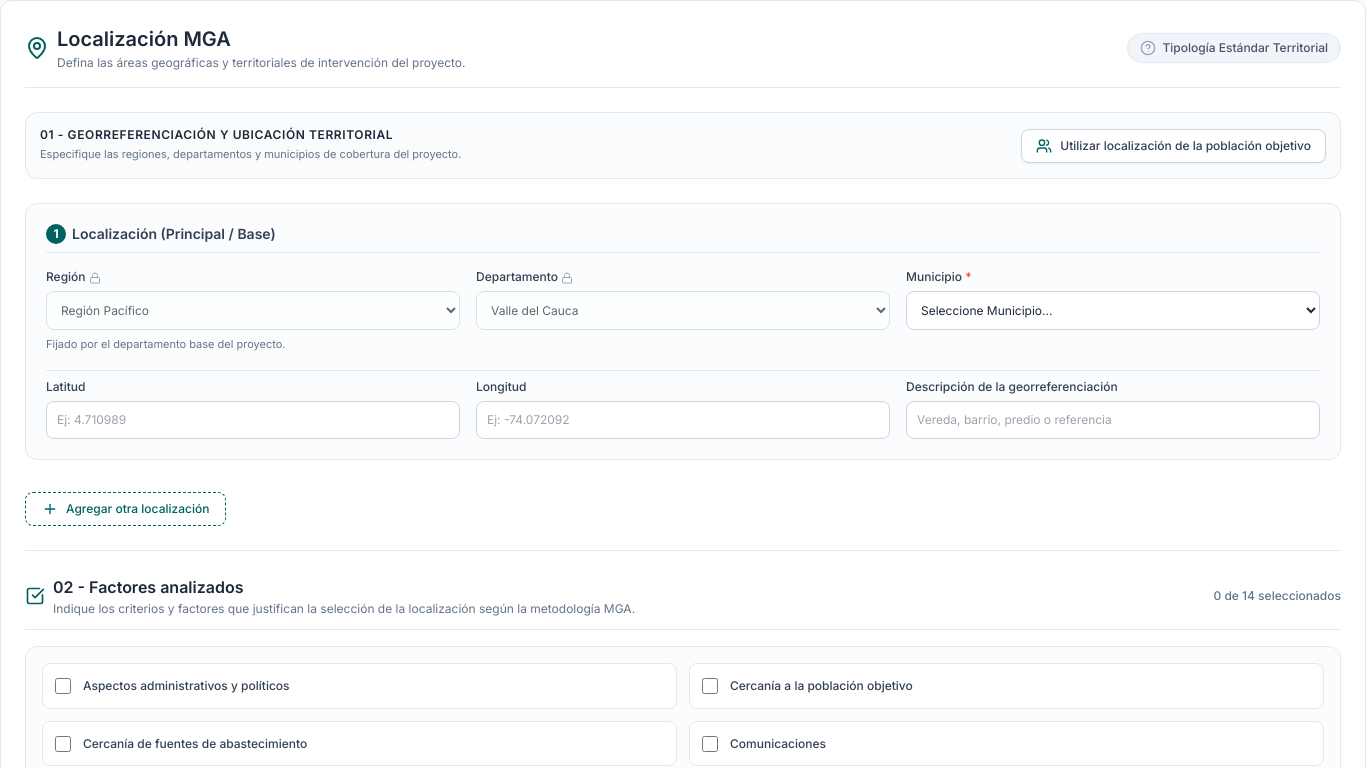
Test: LocalizacionTab - departamento base bloqueado › una nueva localización nace con Región y Departamento base bloqueados
Click the button "Agregar otra localización": coordinates (126, 509) [25,492,226,526]
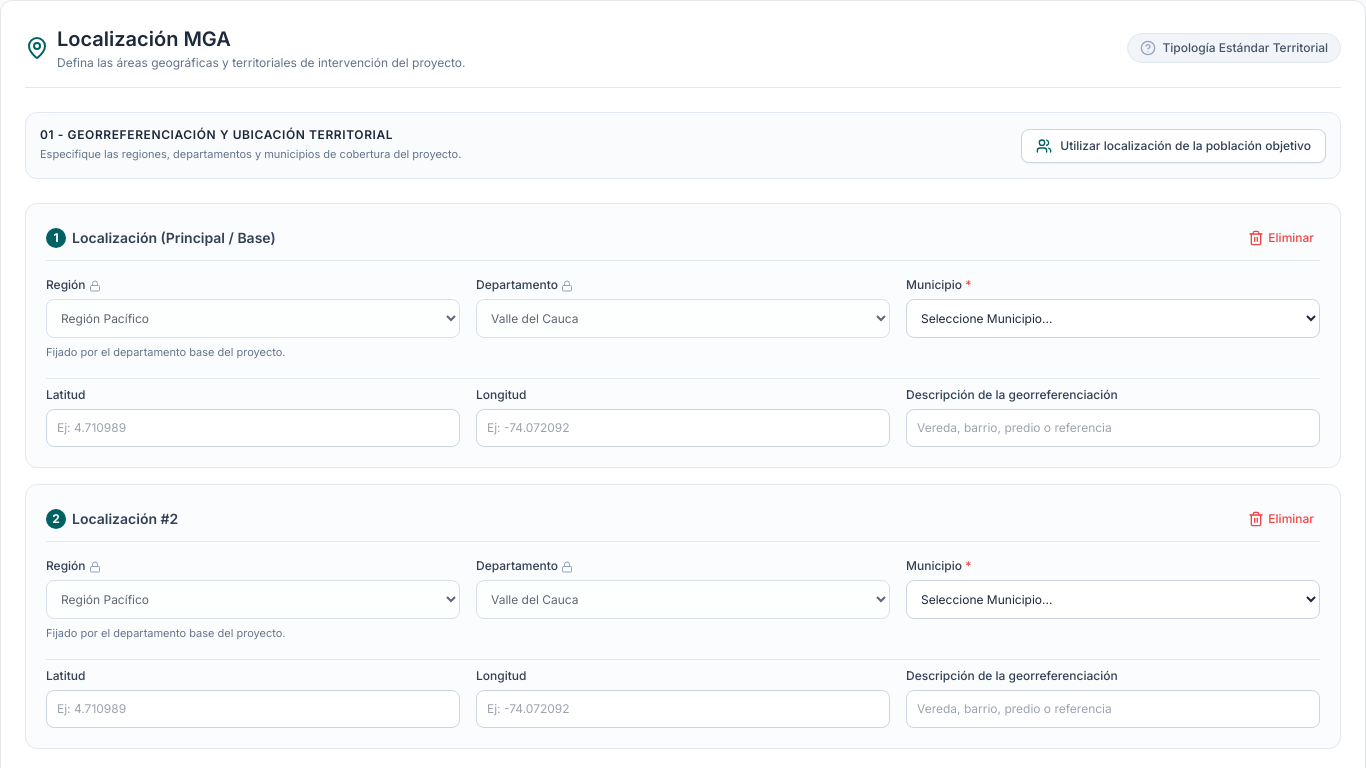
Expected: the text "Localización #2" is shown, [46,509,178,529]
Expected: the number of dropdowns labelled "Departamento" is 2, [476,299,890,338]; [476,580,890,619]
Expected: the 2nd dropdown labelled "Departamento" is disabled, [476,580,890,619]
